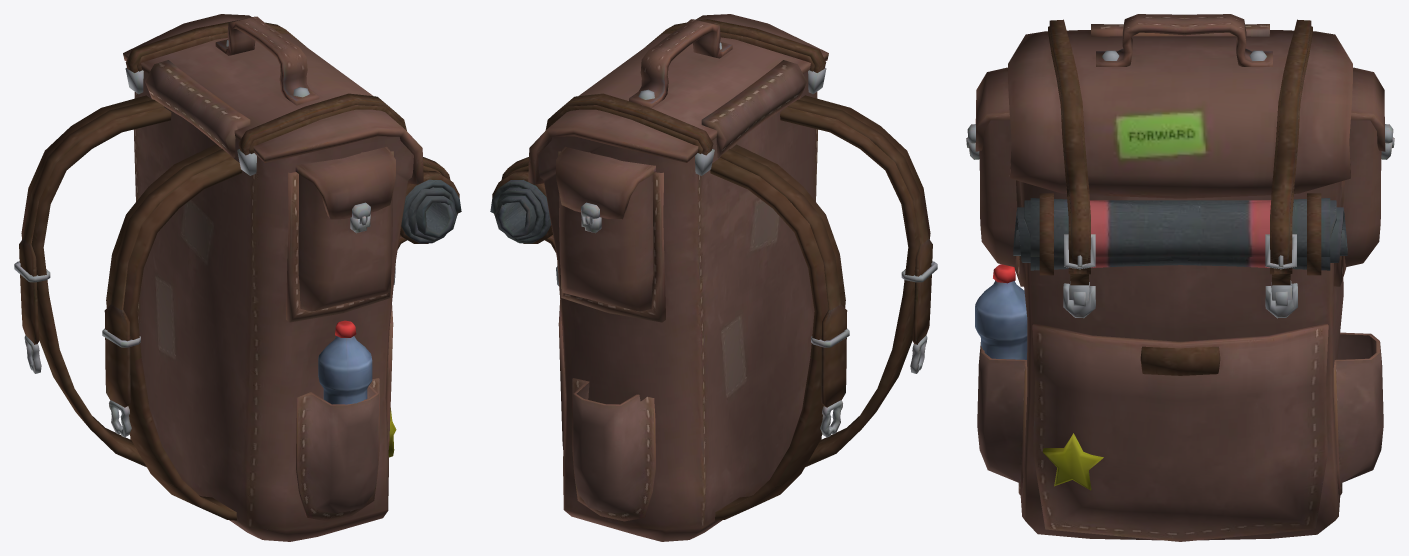
Rendered from backpack-transformed.glb.
The picture shows the model from 3 angles, left to right: view 1: azimuth 30°, elevation 25°; view 2: azimuth 150°, elevation 25°; view 3: azimuth 270°, elevation 25°; orthographic projection. The views are drawn at different scales.
Size of the model in its own units: 348 by 443 by 344.
1 material, 1 textured.
